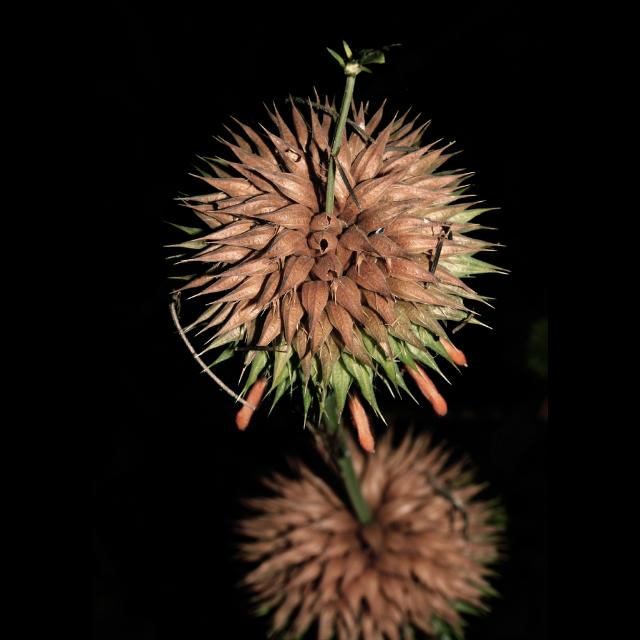Flower: (138, 83, 522, 414), (220, 416, 504, 632)
